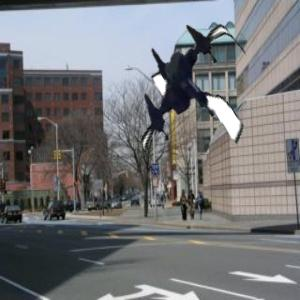drone: (117, 25, 272, 180)
